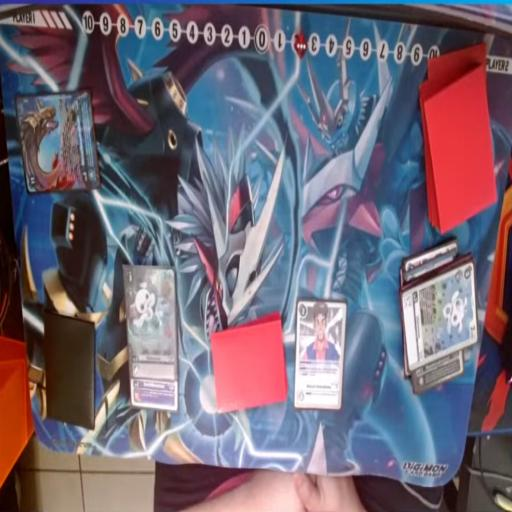card: (400, 260, 480, 371), (14, 93, 100, 194), (122, 260, 179, 376), (295, 300, 344, 414), (410, 347, 466, 393), (131, 378, 180, 410)
